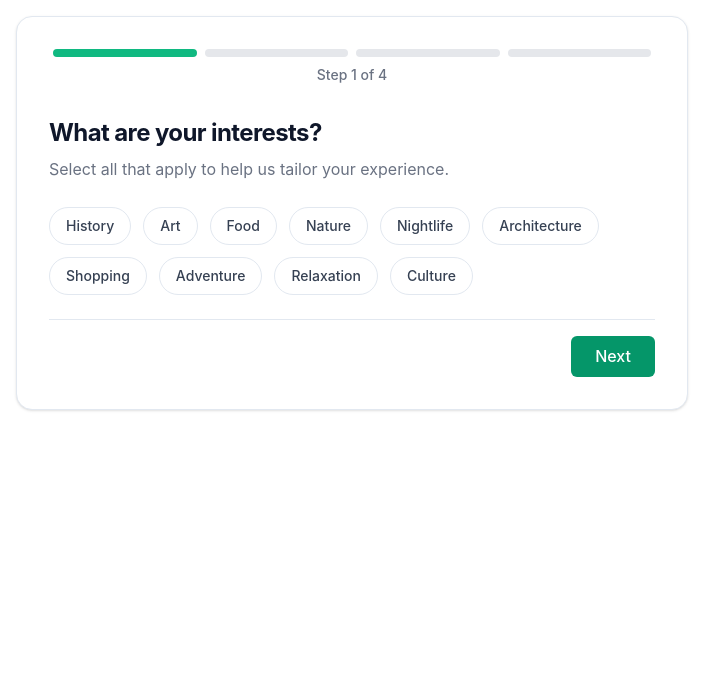
Test: ProfileWizard › validates and advances through steps
The width and height of the screenshot is (705, 693).
Check: the heading "What are your interests?" is shown, box [49,118,322,147]
// Cannot advance without selection
Click the button "Next" at (613, 356), box [571,336,655,377]
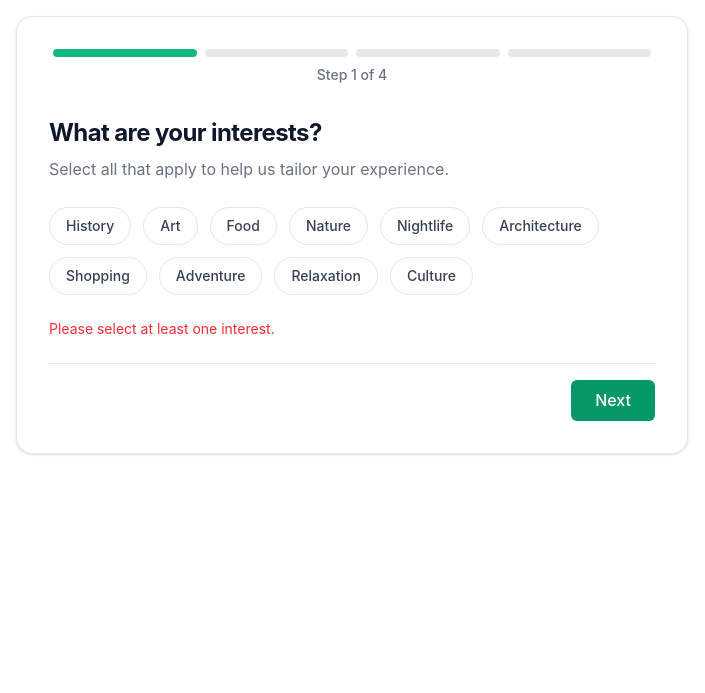
Check: the text "Please select at least one interest." is shown, box [49,320,275,337]
// Select an interest
Click the button "History" at (90, 226), box [49,207,131,245]
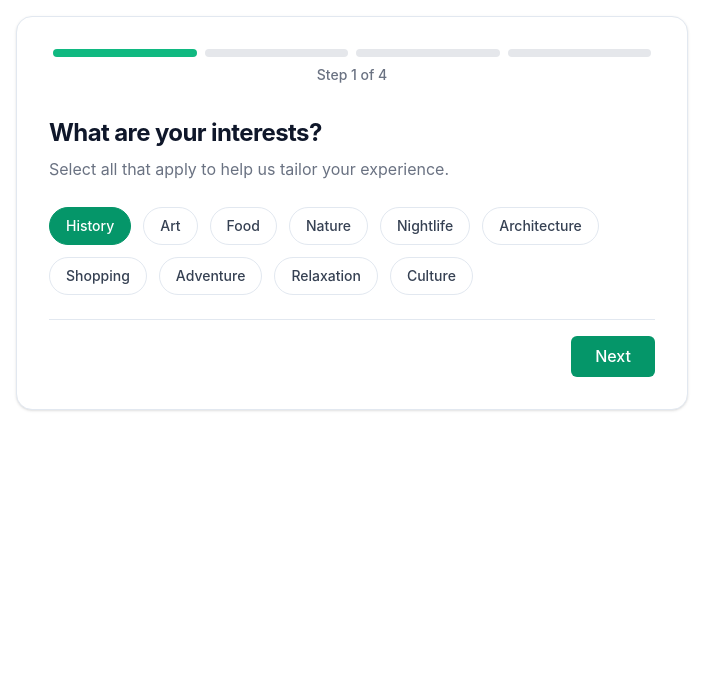
Click the button "Next" at (613, 356), box [571,336,655,377]
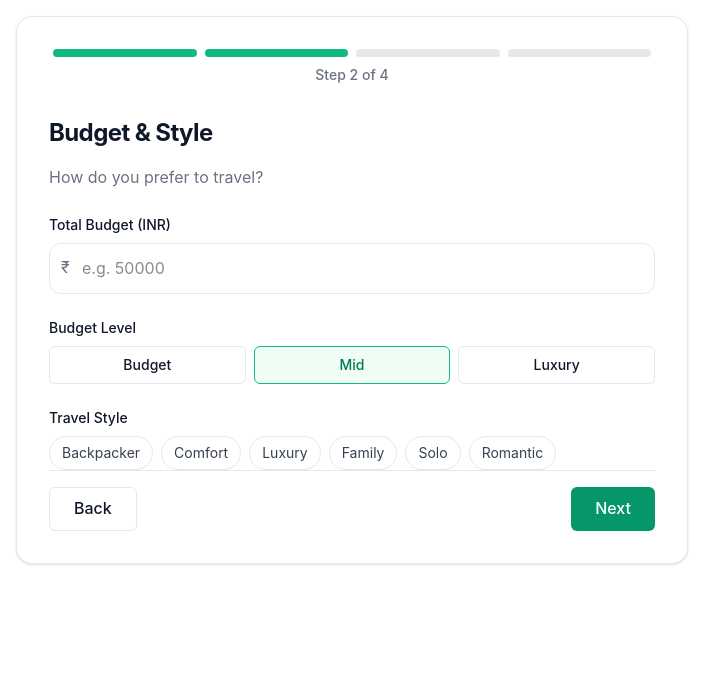
Check: the heading "Budget & Style" is shown, box [49,118,213,147]
// Cannot advance without budget
Click the button "Next" at (613, 509), box [571,487,655,531]
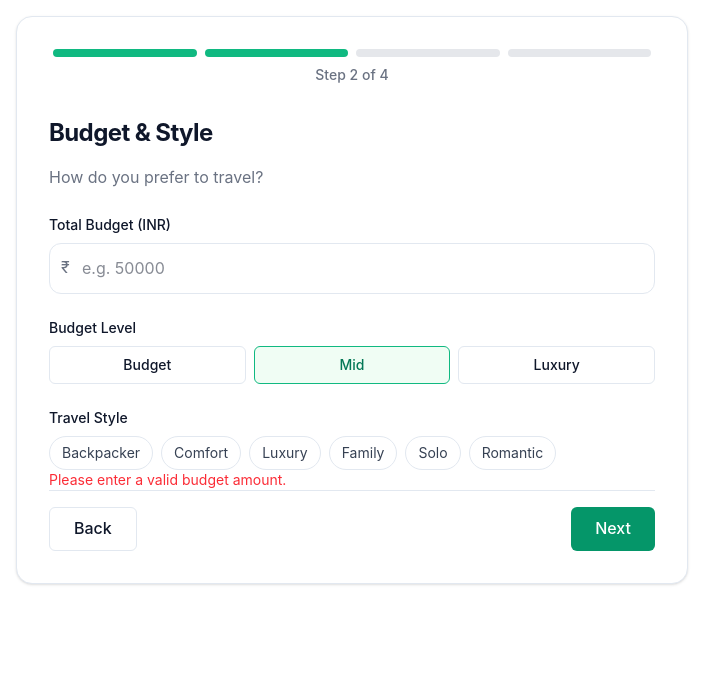
Check: the text "Please enter a valid budget amount." is shown, box [49,471,286,488]
Type "150000" into the number field with placeholder "e.g. 50000" at (352, 268), box [49,243,655,294]
Click the button "Comfort" at (201, 453), box [161,436,241,470]
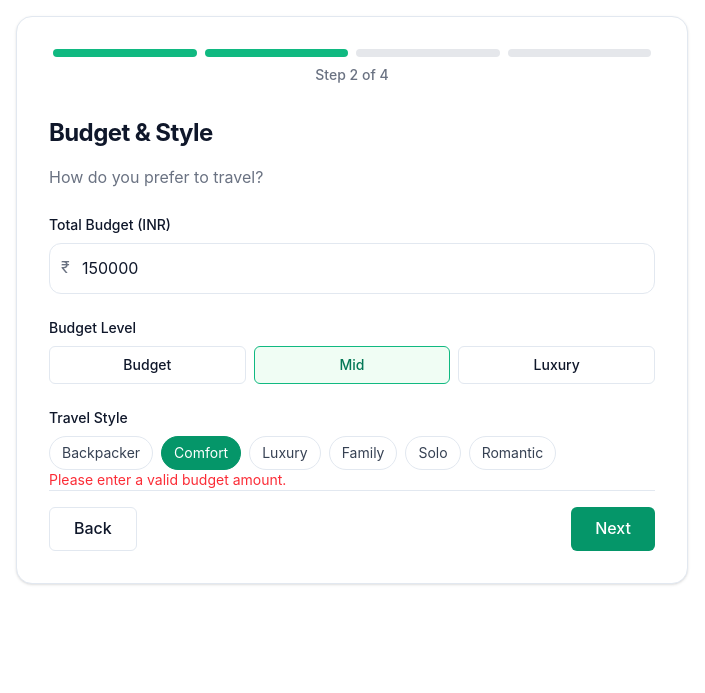
Click the button "Next" at (613, 529), box [571,507,655,551]
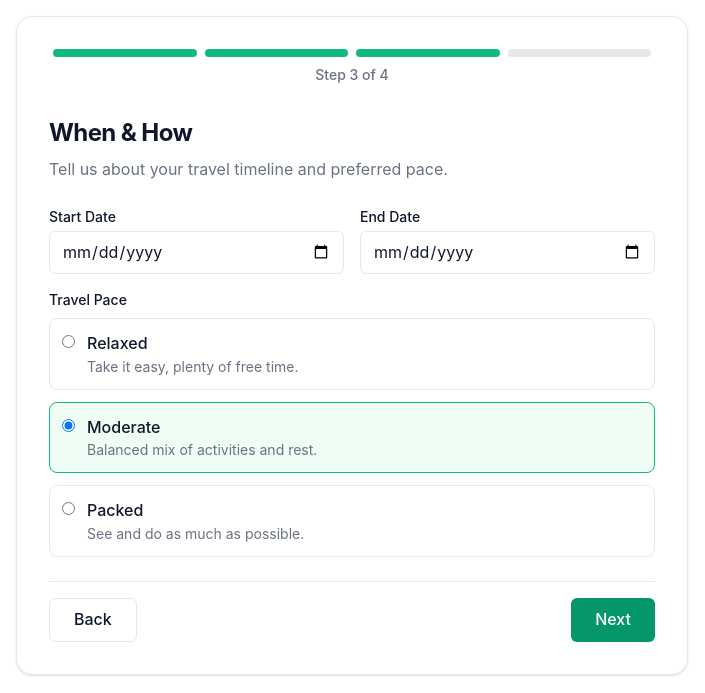
Check: the heading "When & How" is shown, box [49,118,192,147]
